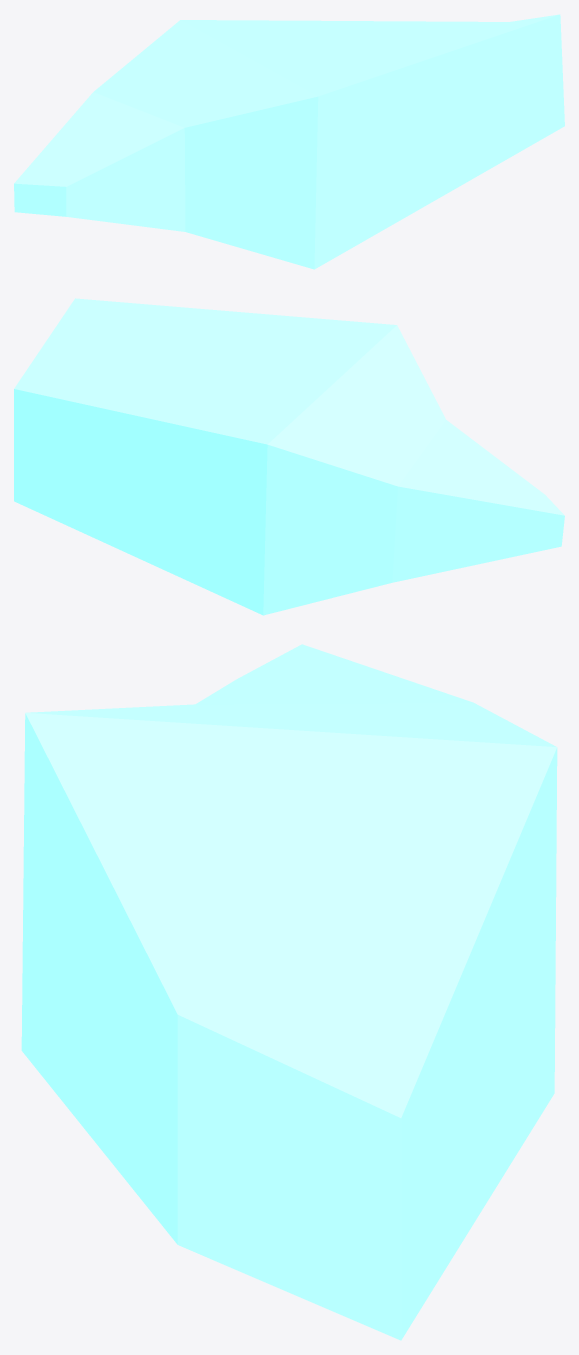
The model's file is PetalItem.fbx.
3 renders of one model, top to bottom at view 1: azimuth 30°, elevation 25°; view 2: azimuth 150°, elevation 25°; view 3: azimuth 270°, elevation 25°, orthographic. The views are drawn at different scales.
Visible parts, largest first — view 1: Cube; view 2: Cube; view 3: Cube.
Part boxes in pixels (box(x1,y1,x2,y2)): Cube: box(14, 14, 564, 269); Cube: box(14, 298, 564, 615); Cube: box(21, 644, 557, 1340).
Size of the model in its own units: 129 by 45.09 by 57.52.
